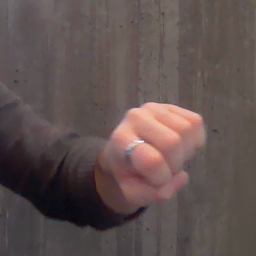E: (103, 100, 210, 204)
